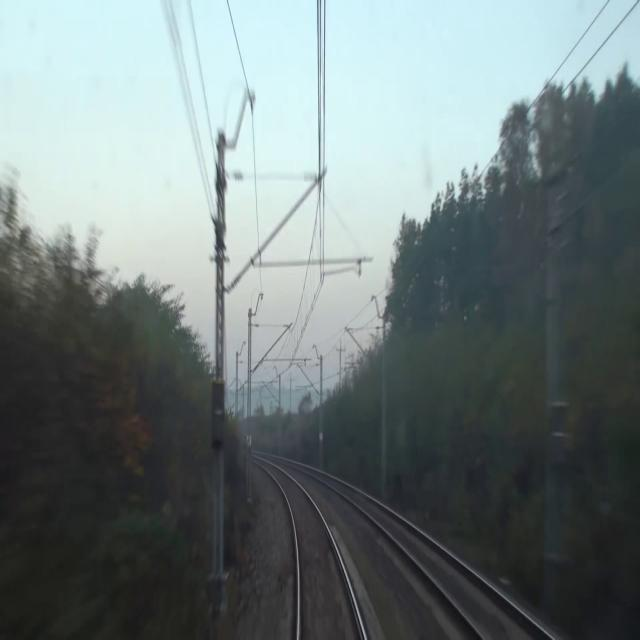rail-track: (349, 491, 546, 639), (273, 470, 361, 639)
